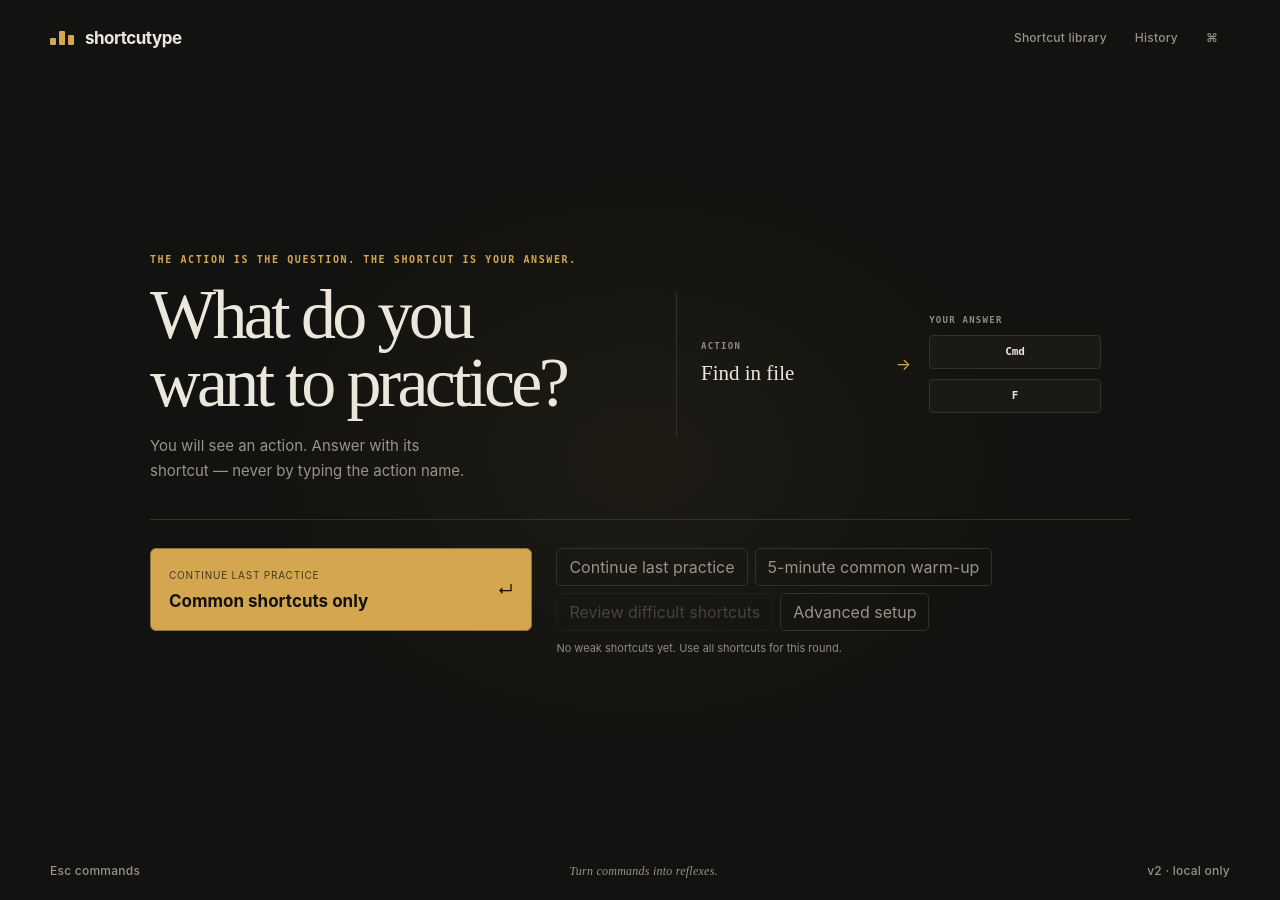
Scenario: keyboard-first practice flow › exposes selected settings without relying on color
Click the button named "Practice setup" at (1212, 38), box [1194,22,1230,54]
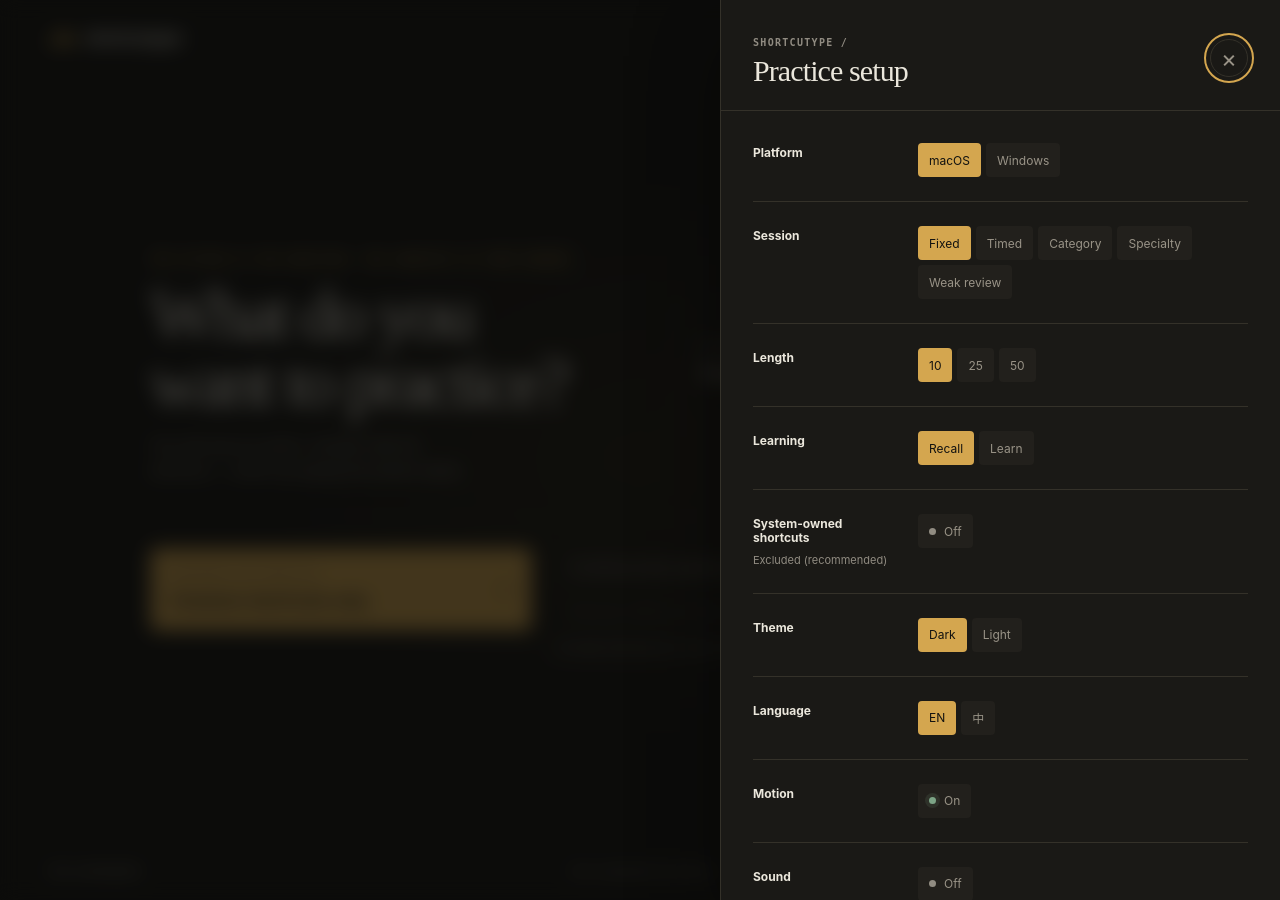
Check: the element named "Platform" is shown, box [918,143,1060,177]
